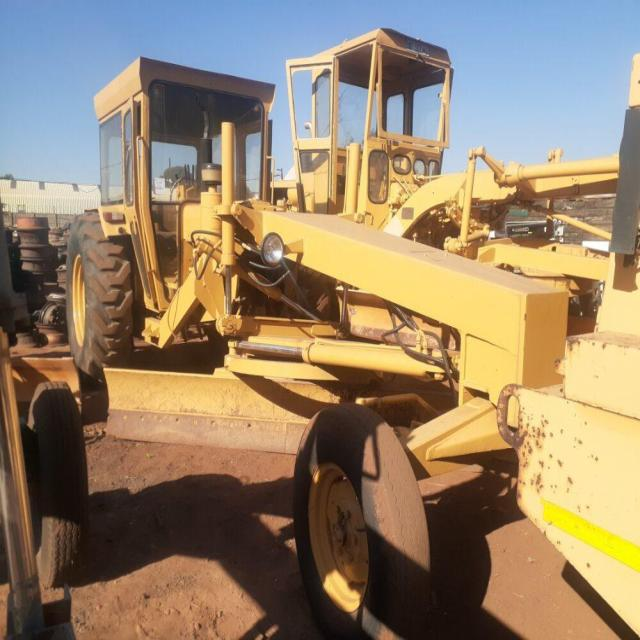Grader: (54, 40, 568, 601)
